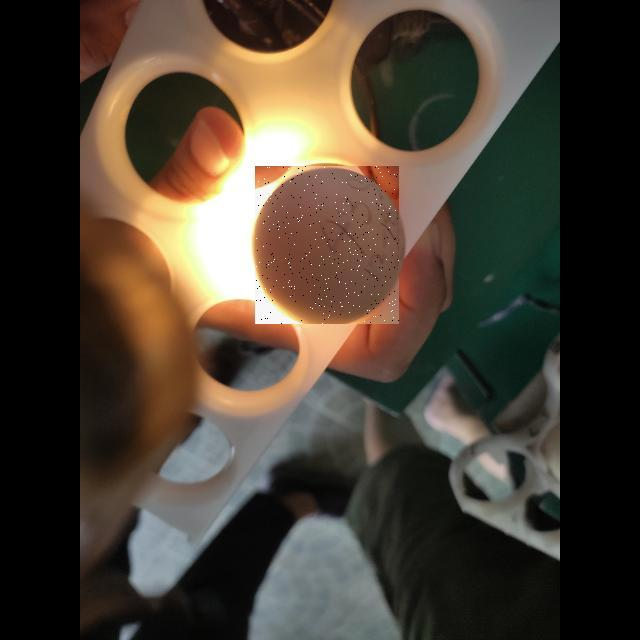Fertile: (255, 166, 399, 324)
